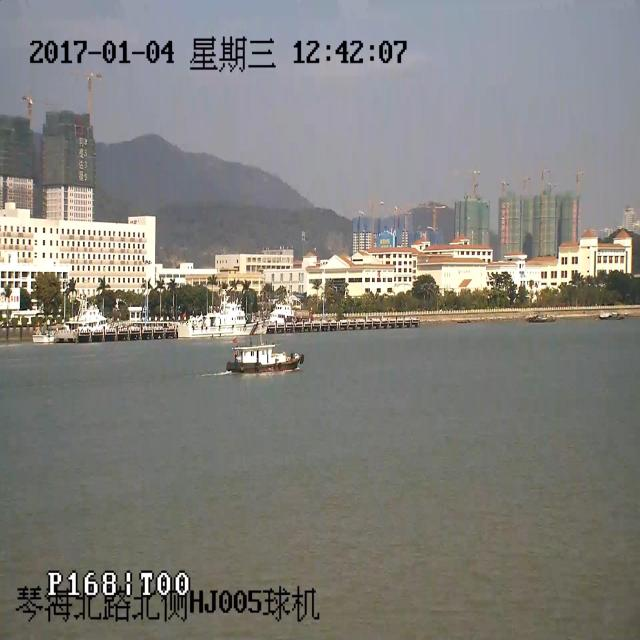fishing boat: (228, 329, 302, 388)
